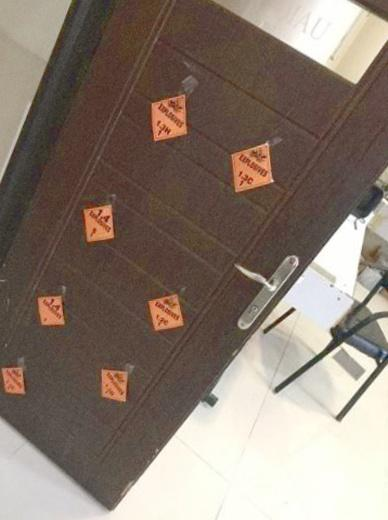explosive: (232, 140, 277, 192), (150, 93, 189, 144), (82, 204, 115, 245), (149, 294, 184, 331), (102, 365, 128, 404), (38, 293, 63, 329), (1, 363, 26, 397)
